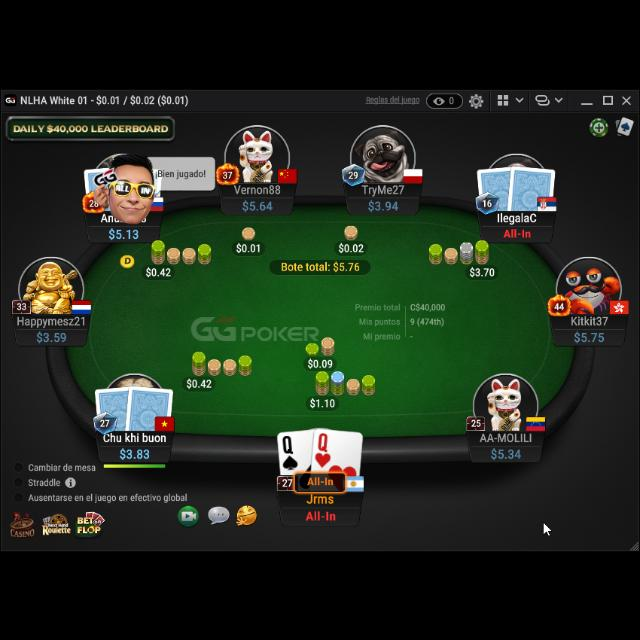Qh: (314, 429, 332, 466)
Qs: (281, 431, 299, 469)
all_in_symbol: (304, 507, 338, 523), (502, 225, 532, 238)
bet_text: (308, 395, 338, 409), (337, 238, 365, 252), (235, 238, 261, 252), (308, 352, 334, 366), (468, 265, 497, 277), (145, 265, 173, 277), (186, 378, 214, 388)
card_back: (506, 161, 558, 211), (124, 380, 174, 430), (475, 162, 519, 210), (94, 382, 134, 428)
dealer: (118, 252, 136, 268)
pot_text: (279, 257, 361, 271)
stack_text: (572, 328, 608, 342), (118, 444, 152, 458), (242, 196, 274, 210), (490, 446, 522, 460), (36, 329, 68, 343), (108, 224, 140, 238), (368, 199, 400, 213)
